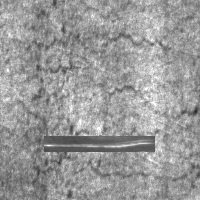crazing: (24, 123, 198, 187), (27, 27, 198, 76), (20, 85, 197, 120)
scratches: (44, 136, 155, 152)
